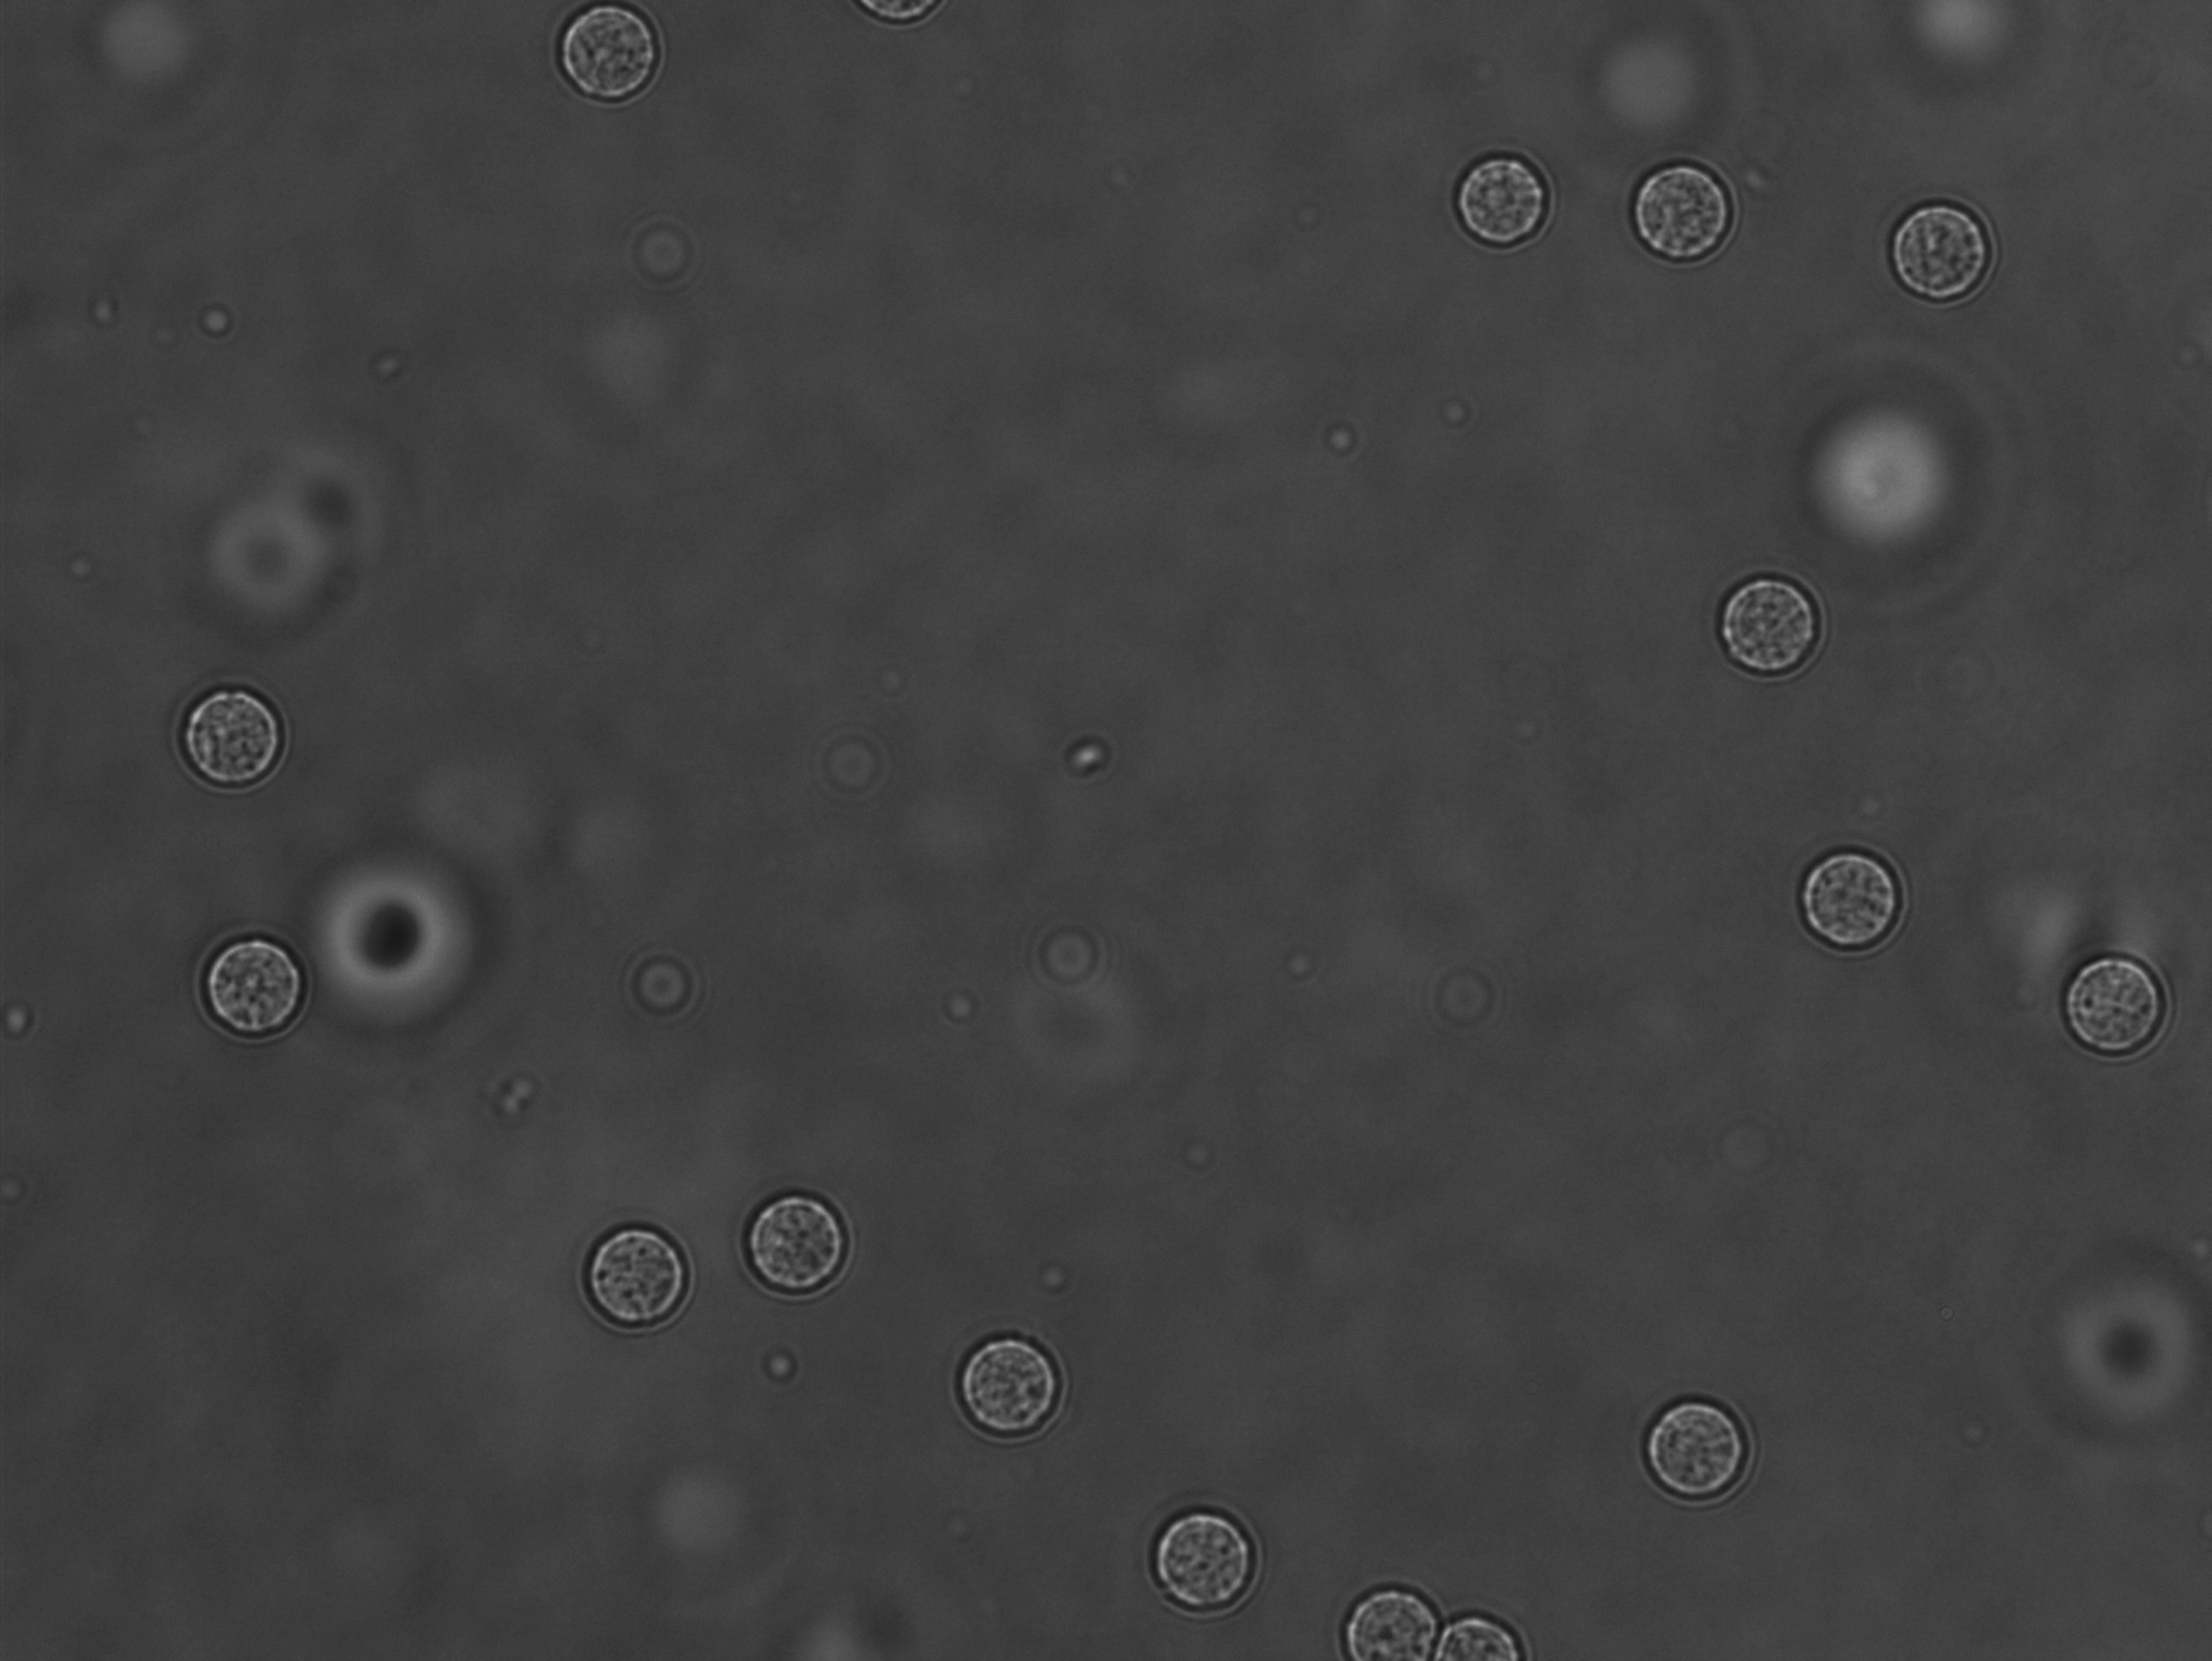depth:0: (2039, 923, 2200, 1080), (159, 660, 317, 813), (183, 907, 330, 1073), (1617, 1375, 1781, 1516), (1134, 1483, 1280, 1637), (1692, 551, 1846, 696), (940, 1309, 1096, 1450), (1778, 820, 1922, 970), (1615, 133, 1748, 286), (734, 1165, 879, 1305), (574, 1204, 710, 1349), (1441, 110, 1567, 263), (1874, 190, 2017, 318)
